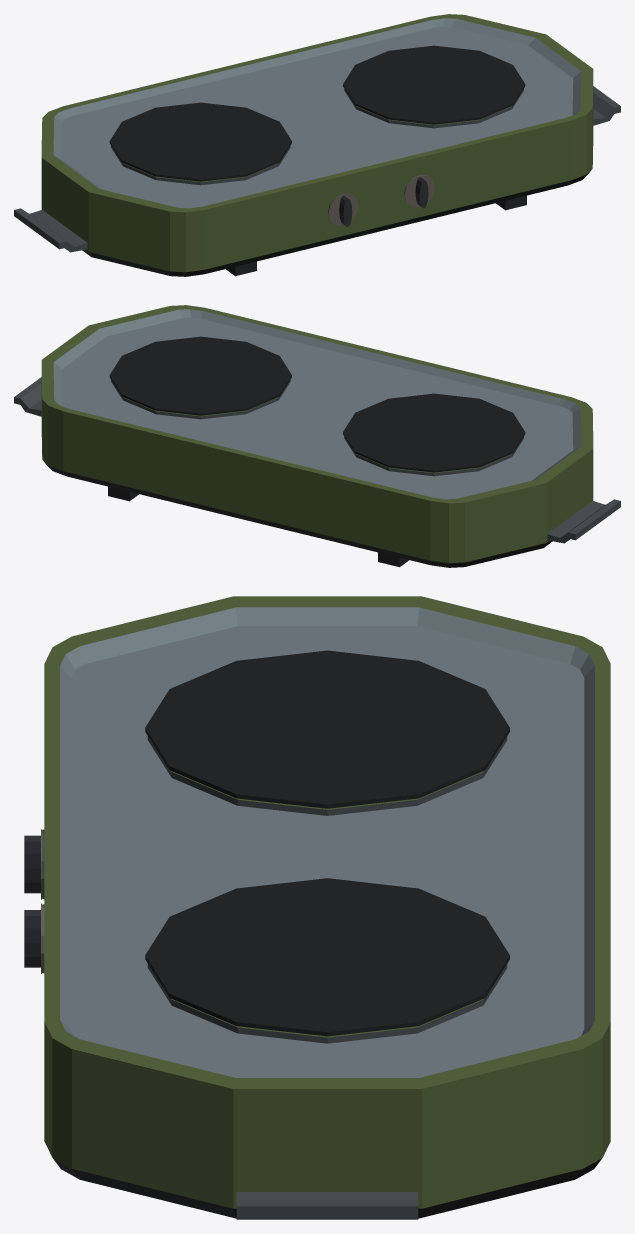
The model's file is tabletopgasstove_01_B.gltf.
3 views of the same model, one above another, from view 1: azimuth 30°, elevation 25°; view 2: azimuth 150°, elevation 25°; view 3: azimuth 270°, elevation 25° (orthographic). The views are drawn at different scales.
Visible parts, largest first — view 1: tabletopgasstove_01_B; view 2: tabletopgasstove_01_B; view 3: tabletopgasstove_01_B, switchfortabletopgasstove_01_B, switchfortabletopgasstove_02_B.
Part boxes in pixels (<box>): tabletopgasstove_01_B: <box>14,14,620,276</box>; tabletopgasstove_01_B: <box>14,305,620,567</box>; tabletopgasstove_01_B: <box>41,596,610,1219</box>; switchfortabletopgasstove_01_B: <box>24,835,40,893</box>; switchfortabletopgasstove_02_B: <box>24,910,40,967</box>.
Size of the model in its own units: 0.687 by 0.0952 by 0.3107.
Materials: 1 (1 with a texture image).
